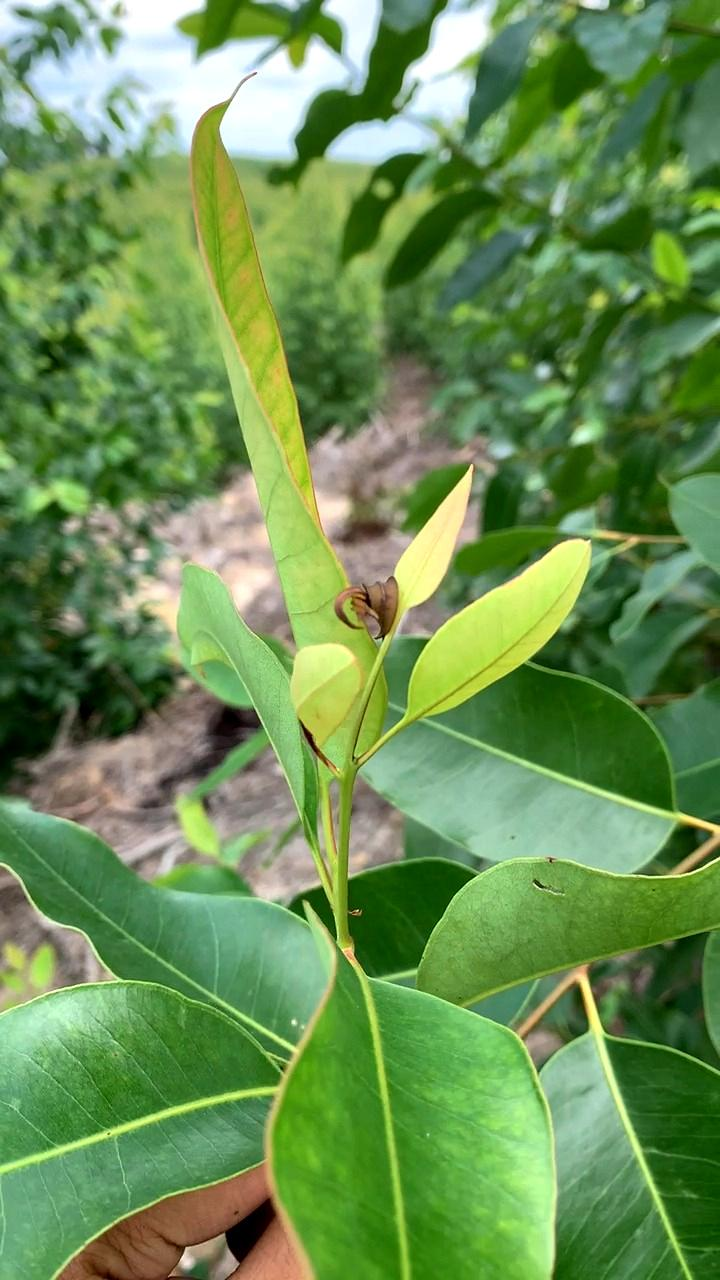Helopeltis-Withered Sprout: (328, 563, 405, 646)
